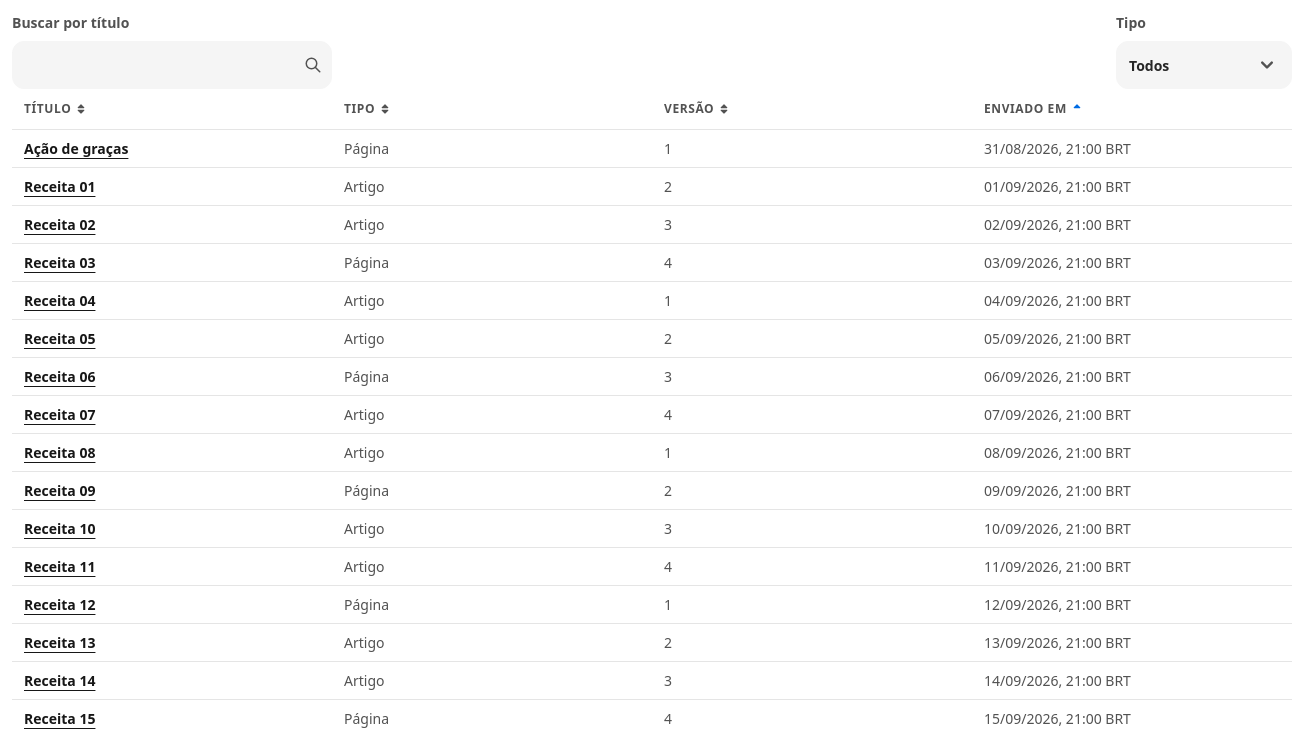
Test: busca, filtro, ordem e paginação (#365) › busca por palavra do título sem diferenciar maiúsculas e acentos
In the search field labelled "Buscar por título": (172, 65) [12, 41, 332, 89], type "ACAO"
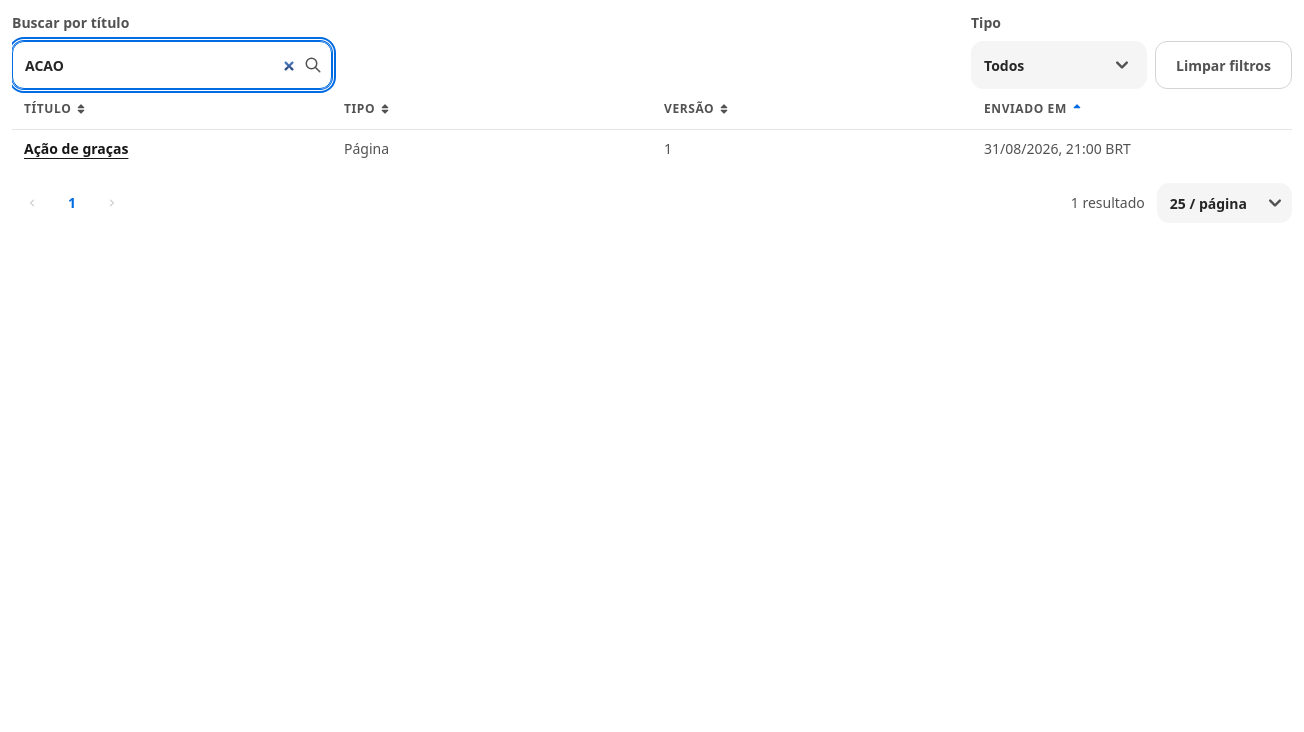
Check: the message reads "1 resultado", box [1071, 193, 1145, 212]
